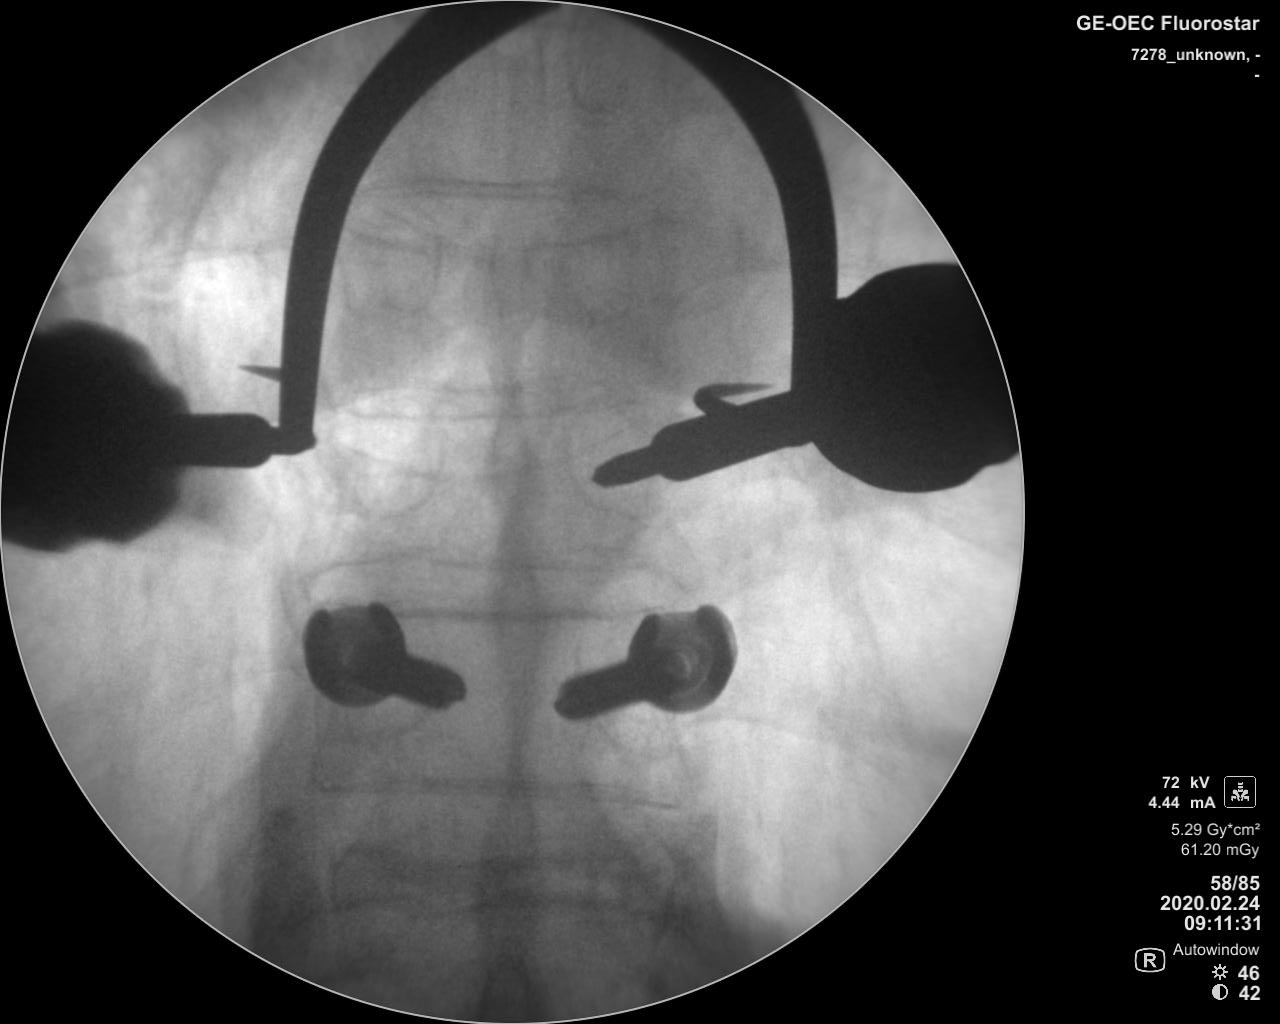eyes: (341, 405, 433, 520), (346, 217, 439, 322), (566, 411, 642, 515), (558, 222, 634, 320)
line: (331, 775, 664, 815), (362, 377, 645, 423), (360, 545, 634, 577), (396, 596, 642, 628), (360, 174, 621, 204), (349, 847, 623, 872)
nose: (473, 765, 546, 947), (487, 525, 545, 676), (479, 196, 538, 345), (478, 379, 541, 513)
